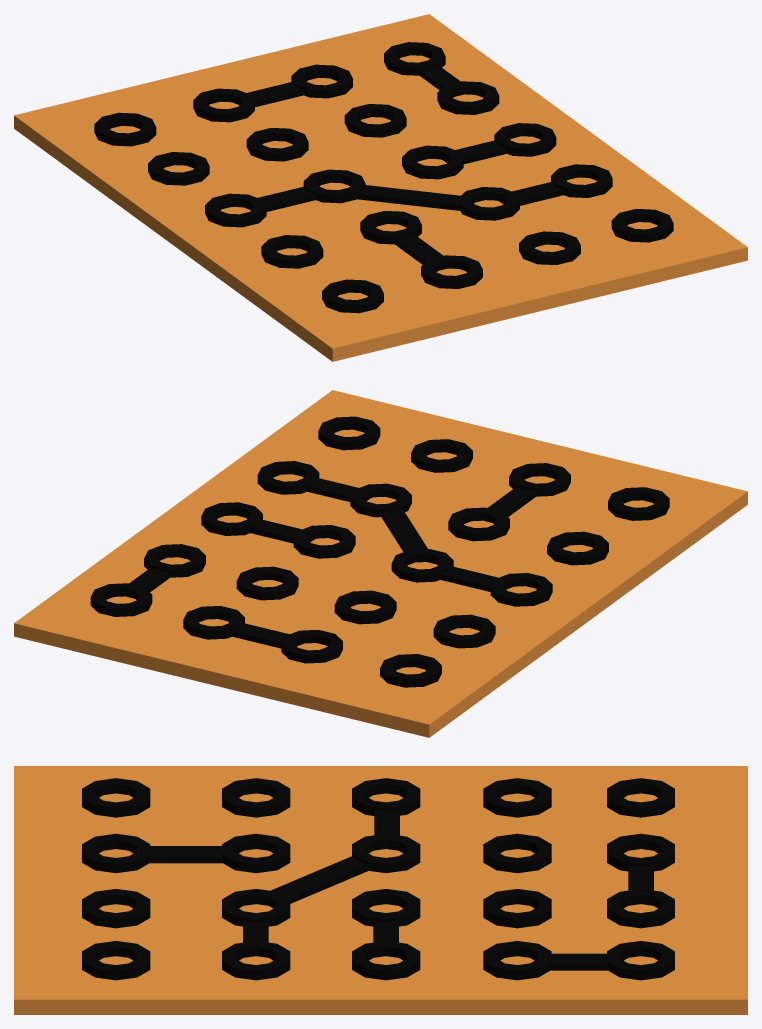
File: CircuitBoardLarge.fbx
3 renders of one model, top to bottom at view 1: azimuth 30°, elevation 25°; view 2: azimuth 150°, elevation 25°; view 3: azimuth 270°, elevation 25°, orthographic. The views are drawn at different scales.
Parts seen in each view (by area): view 1: CircuitBoardLarge; view 2: CircuitBoardLarge; view 3: CircuitBoardLarge.
Boxes of the visible parts, x1,y1,x2,y2 form: CircuitBoardLarge: [14, 14, 747, 361]; CircuitBoardLarge: [14, 390, 747, 737]; CircuitBoardLarge: [14, 766, 747, 1014].
Bounding box in the file's own units: 77.07 × 3.78 × 102.
